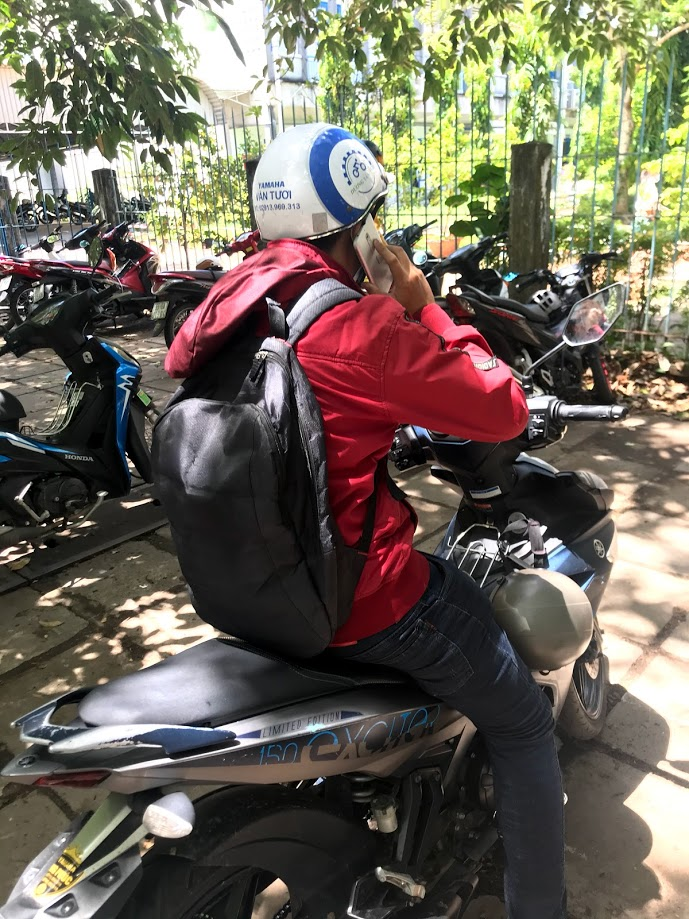su dung dien thoai: (249, 122, 429, 329)
